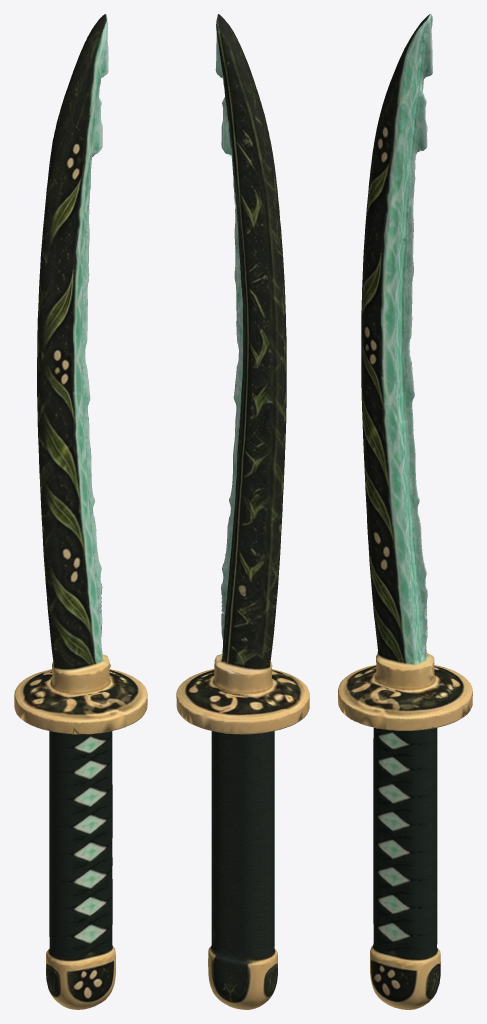
File: Nori_katana_texture.glb
3 renders of one model, left to right at view 1: azimuth 30°, elevation 25°; view 2: azimuth 150°, elevation 25°; view 3: azimuth 330°, elevation 25°, orthographic.
Size of the model in its own units: 0.2335 by 1.9 by 0.2314.
Materials: 1 (1 with a texture image).
